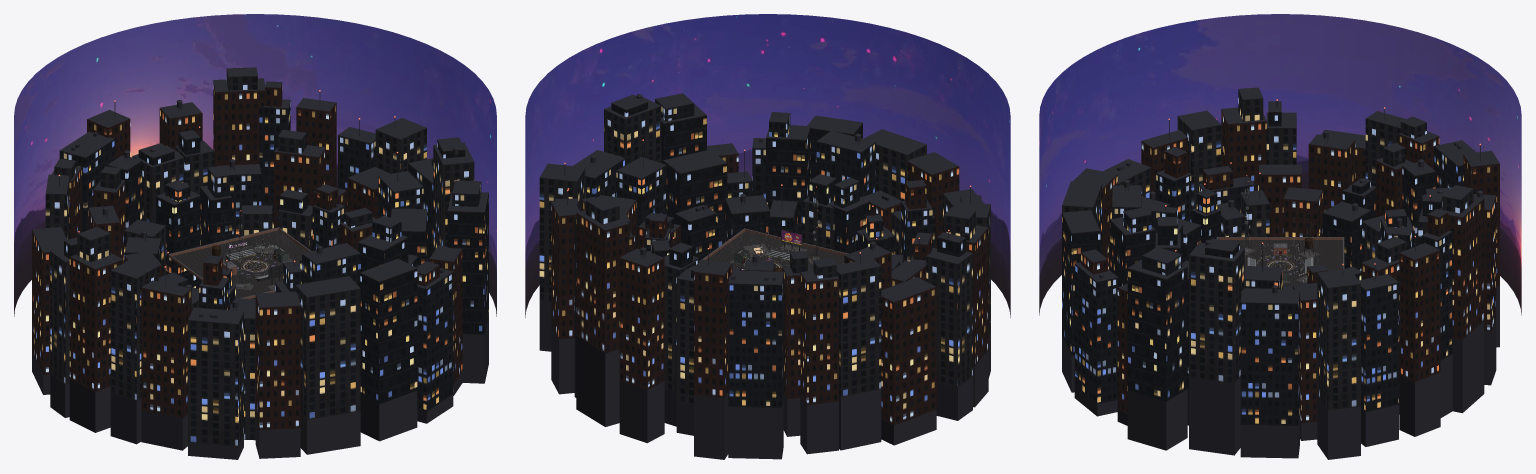
Rendered from rooftop.glb.
3 views of the same model, side by side, from view 1: azimuth 30°, elevation 25°; view 2: azimuth 150°, elevation 25°; view 3: azimuth 270°, elevation 25° (orthographic).
Parts seen in each view (by area): view 1: rooftop_set; view 2: rooftop_set; view 3: rooftop_set.
Boxes of the visible parts, <box> form: rooftop_set: <box>14,14,496,459</box>; rooftop_set: <box>525,14,1010,459</box>; rooftop_set: <box>1039,14,1521,459</box>.
Bounding box in the file's own units: 200 × 114 × 200.
36 materials, 22 textured.
